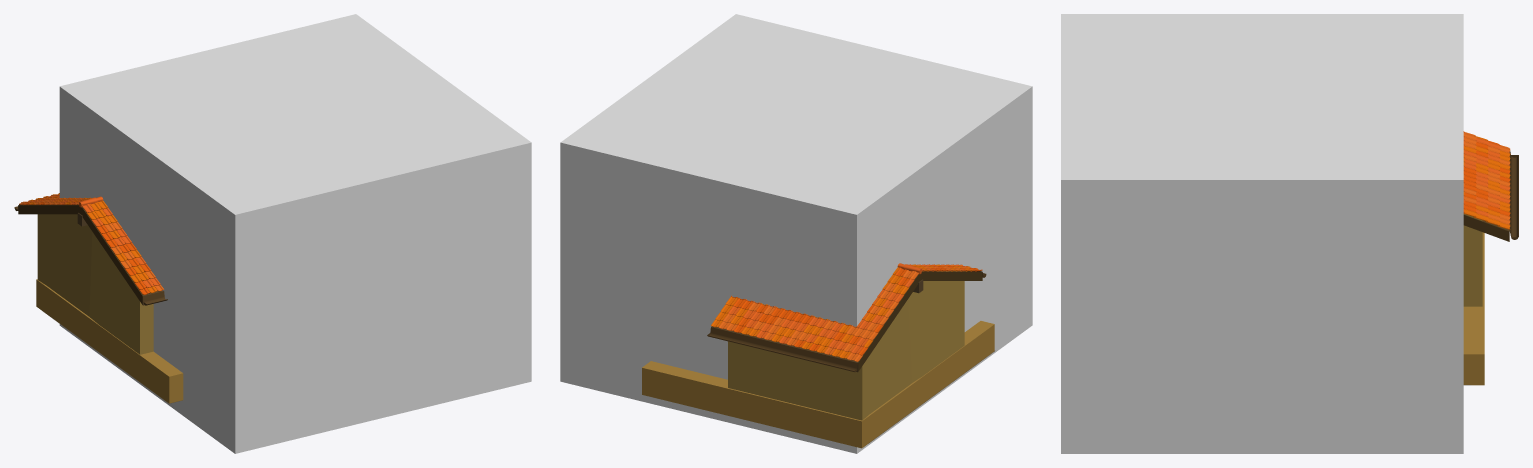
Rendered from casa3.fbx.
3 views of the same model, side by side, from view 1: azimuth 30°, elevation 25°; view 2: azimuth 150°, elevation 25°; view 3: azimuth 270°, elevation 25° (orthographic). The views are drawn at different scales.
Visible parts, largest first — view 1: Cube.002, casa, muro, Roof; view 2: Cube.002, casa, muro, Roof; view 3: Cube.002, Roof, muro, casa.
Boxes of the visible parts, x1,y1,x2,y2 form: Cube.002: (59,14,531,453); casa: (37,214,153,354); muro: (36,279,183,403); Roof: (14,193,167,305); Cube.002: (560,14,1032,453); casa: (728,271,964,420); muro: (642,321,994,448); Roof: (707,263,986,372); Cube.002: (1061,14,1463,453); Roof: (1463,131,1518,241); muro: (1463,232,1484,385); casa: (1463,214,1482,306).
Bounding box in the file's own units: 1445 × 1036 × 1569.
